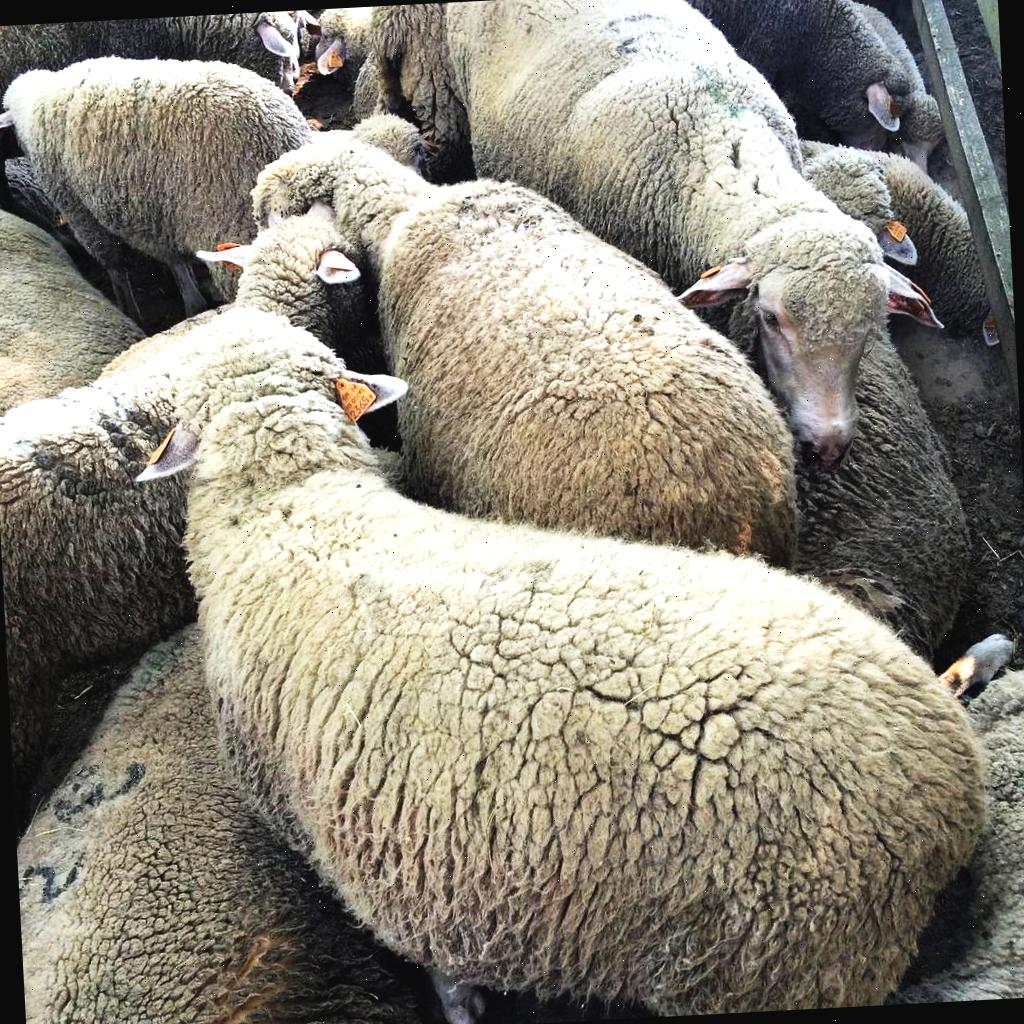Sheep: (164, 280, 976, 998), (0, 170, 411, 1024), (435, 0, 897, 459), (669, 0, 990, 384), (0, 45, 331, 304)
